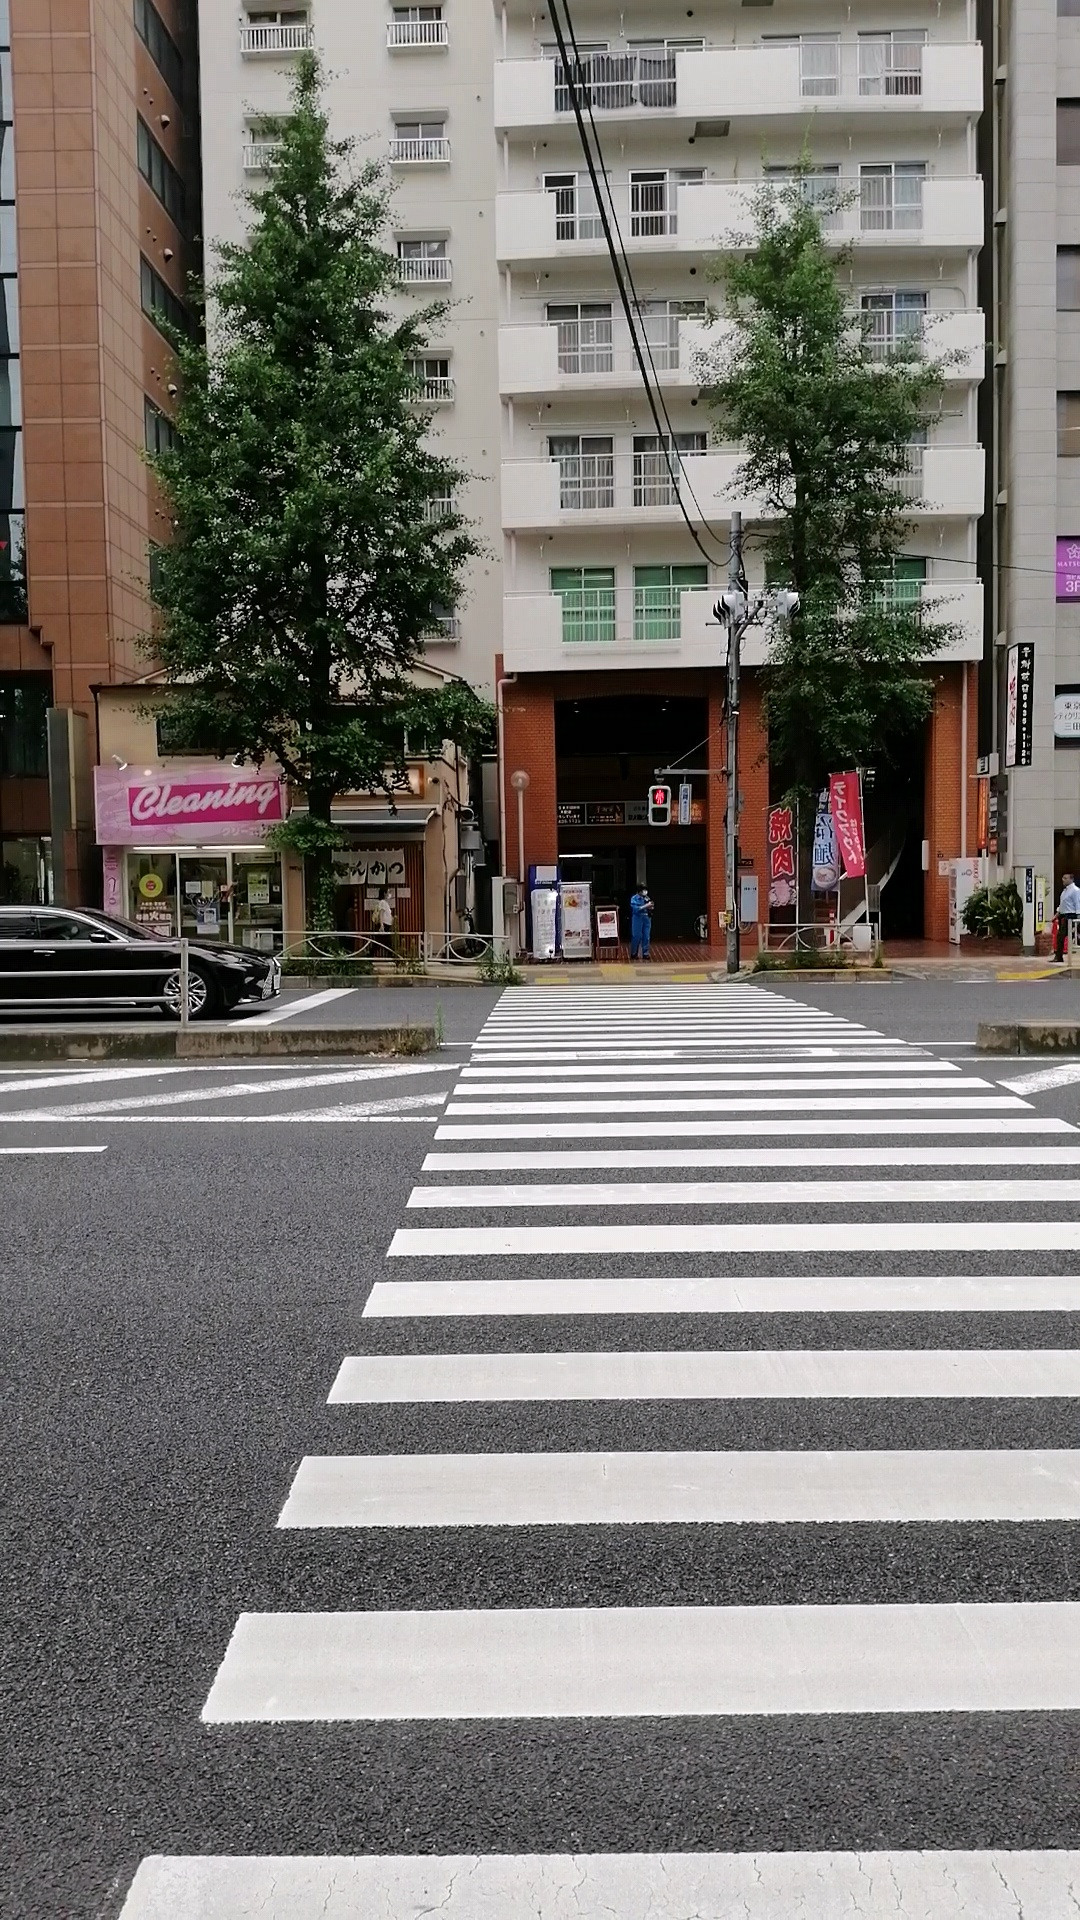red: (647, 783, 670, 827)
